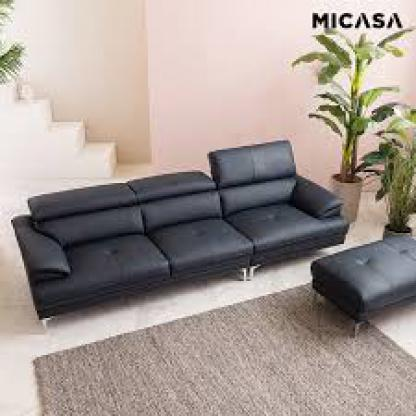sofa: (18, 152, 352, 329)
